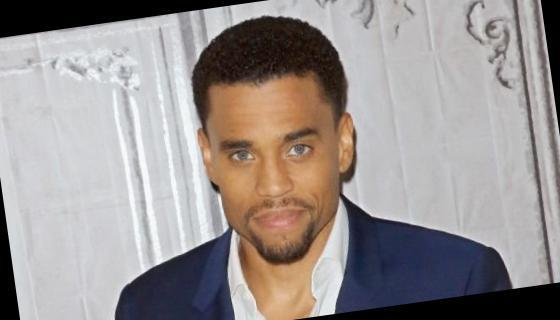Sober: (210, 82, 338, 245)
